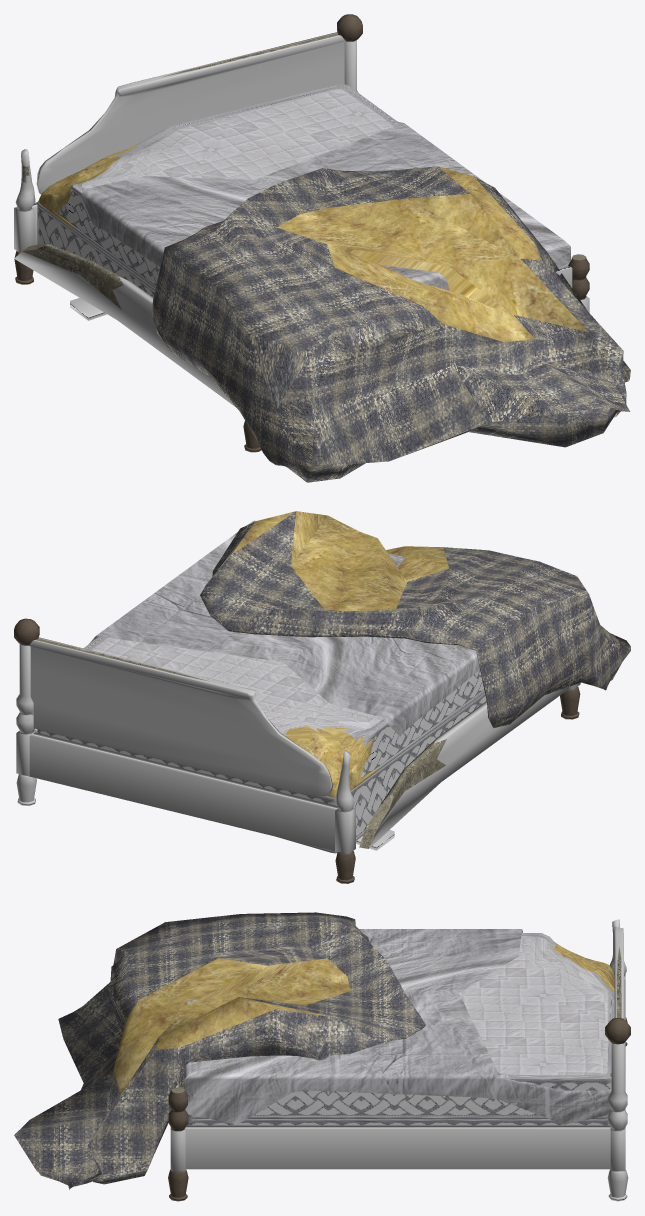
The model's file is BedAFullBlanketDestroy.fbx.
3 views of the same model, one above another, from view 1: azimuth 30°, elevation 25°; view 2: azimuth 150°, elevation 25°; view 3: azimuth 270°, elevation 25° (orthographic). The views are drawn at different scales.
Visible parts, largest first — view 1: BedAFullBlanketDestroy; view 2: BedAFullBlanketDestroy; view 3: BedAFullBlanketDestroy.
Part boxes in pixels (x1,y1,x2,y2): BedAFullBlanketDestroy: (14,14,630,482); BedAFullBlanketDestroy: (14,511,630,883); BedAFullBlanketDestroy: (14,912,630,1201).
Bounding box in the file's own units: 244 × 121 × 377.
